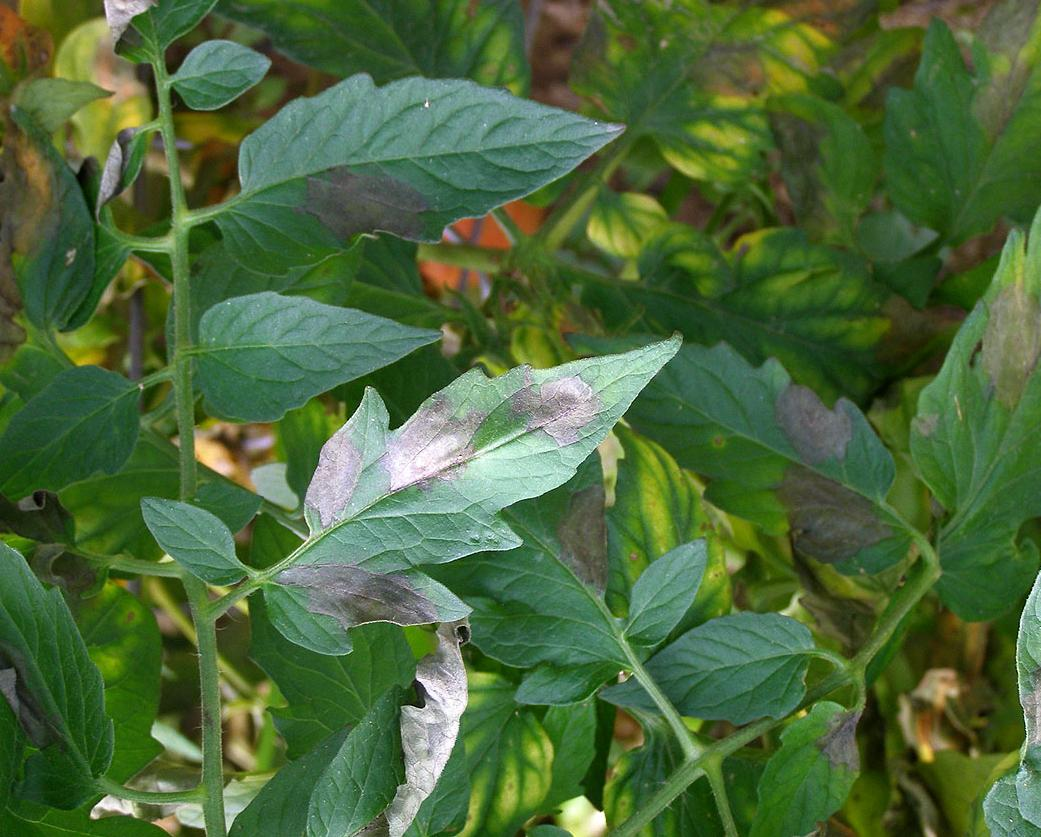Tomato leaf late blight: (245, 349, 677, 631), (201, 68, 637, 257), (602, 345, 913, 589), (899, 157, 1041, 637), (0, 398, 121, 806), (5, 115, 98, 359), (741, 689, 874, 837)
